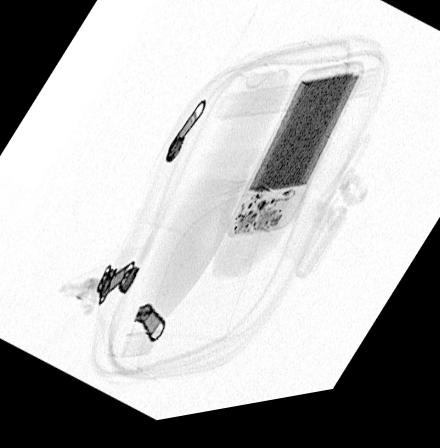Powerbank: (226, 73, 364, 246)
